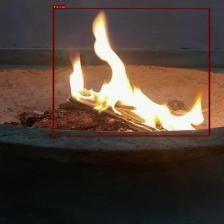fire: (52, 8, 210, 136)
